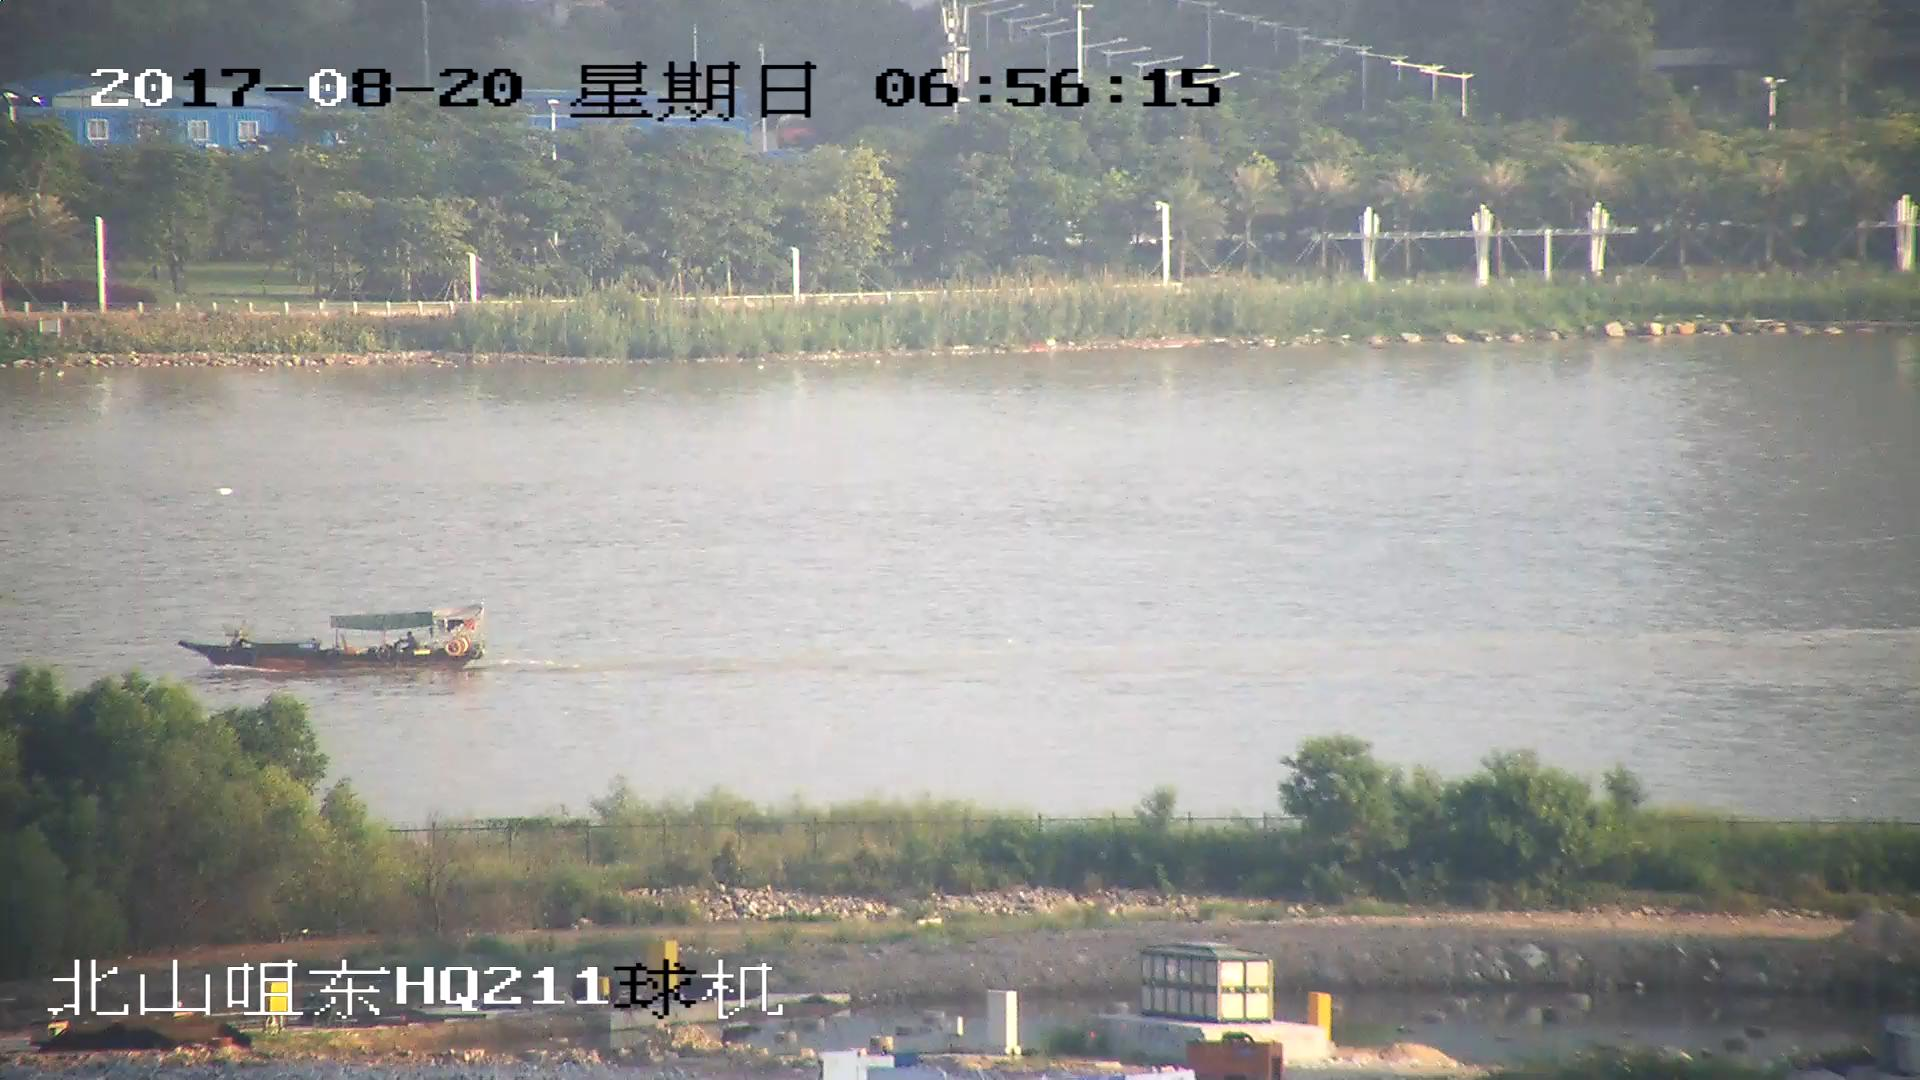fishing boat: (188, 606, 481, 672)
